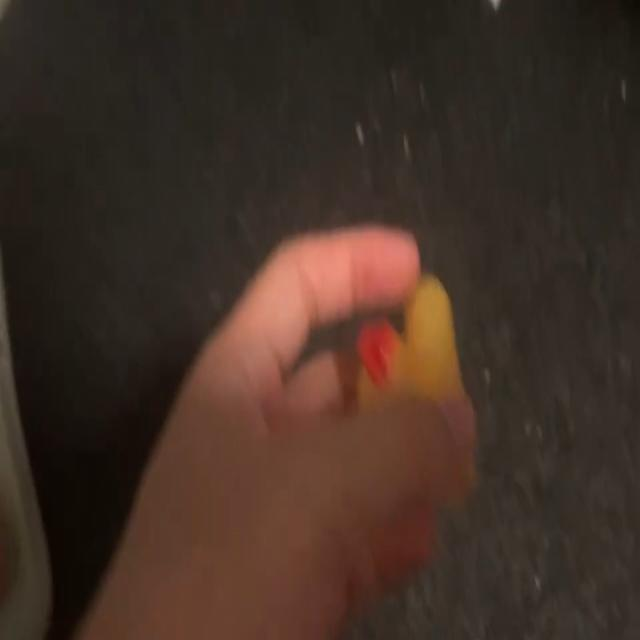rubber-duck: (355, 274, 473, 502)
